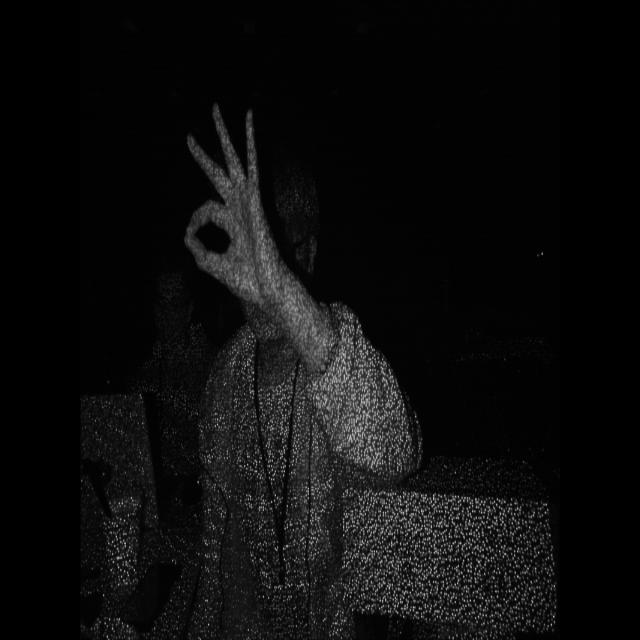F: (162, 89, 300, 335)
